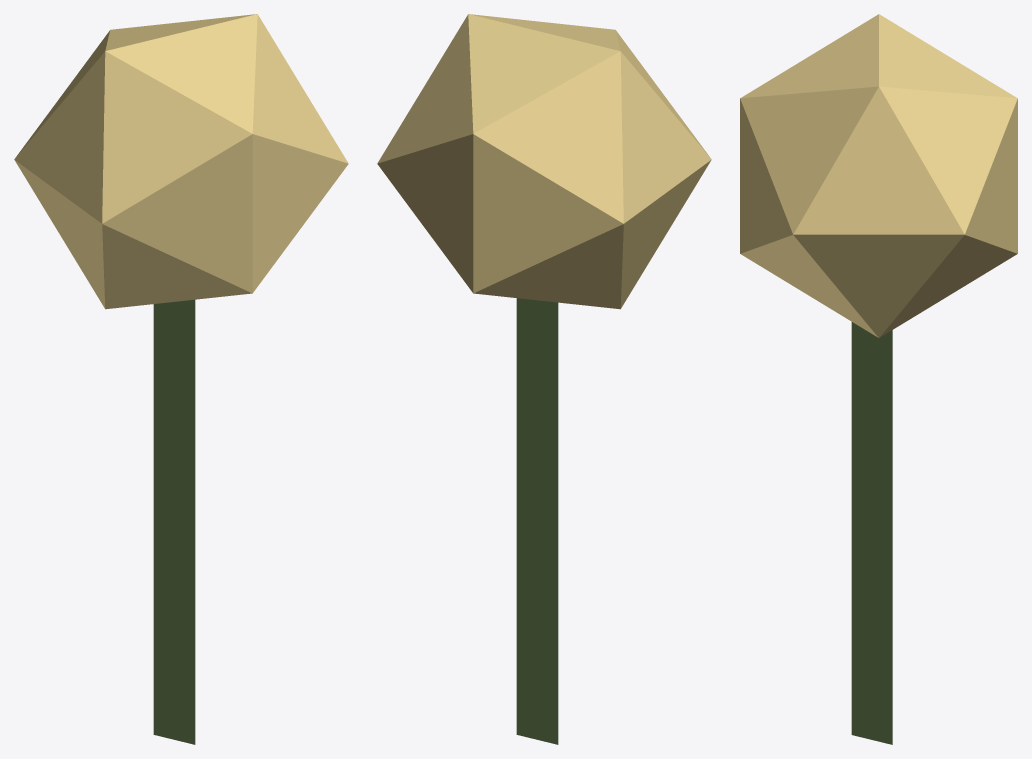
File: flower-e9d392.glb
3 views of the same model, side by side, from view 1: azimuth 30°, elevation 25°; view 2: azimuth 150°, elevation 25°; view 3: azimuth 270°, elevation 25° (orthographic). The views are drawn at different scales.
Parts seen in each view (by area): view 1: flower-e9d392; view 2: flower-e9d392; view 3: flower-e9d392.
Boxes of the visible parts, <box> form: flower-e9d392: <box>14,14,348,744</box>; flower-e9d392: <box>377,14,711,744</box>; flower-e9d392: <box>740,14,1017,744</box>.
Size of the model in its own units: 0.1531 by 0.4166 by 0.1531.
